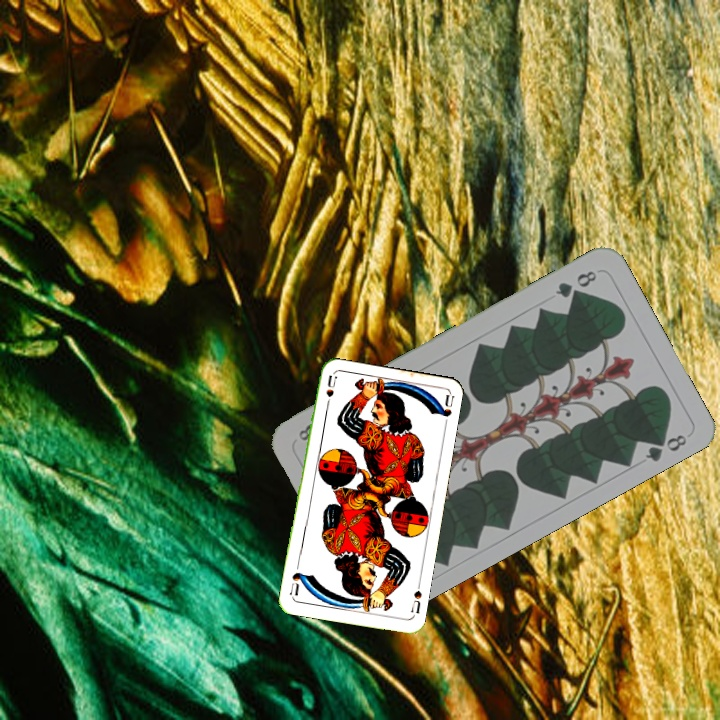G8: (551, 266, 600, 301)
SU: (322, 372, 338, 413), (407, 586, 424, 616)
